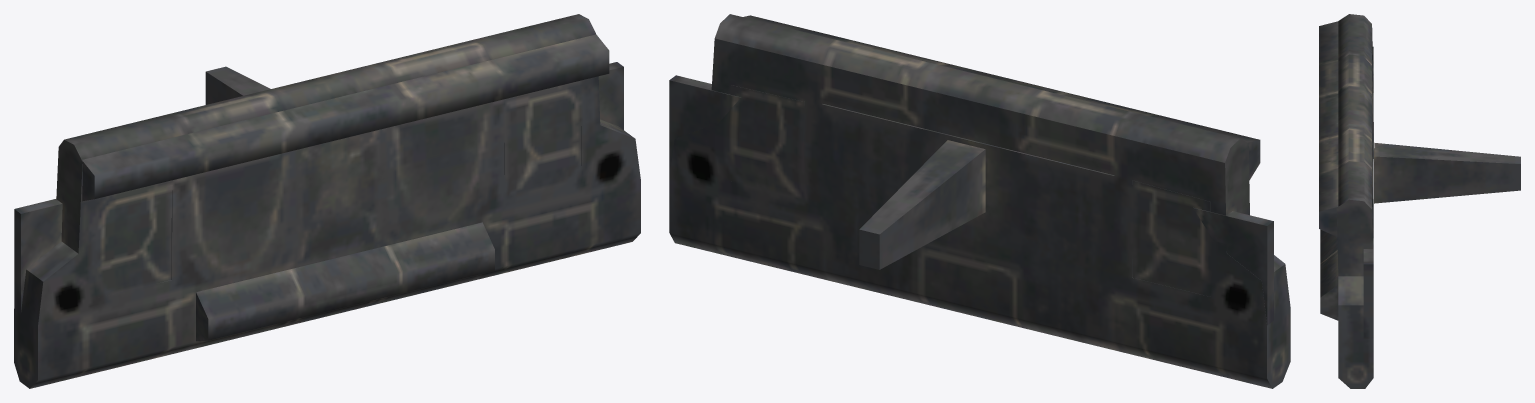
The picture shows the model from 3 angles, left to right: view 1: azimuth 30°, elevation 25°; view 2: azimuth 150°, elevation 25°; view 3: azimuth 270°, elevation 25°; orthographic projection. The views are drawn at different scales.
Visible parts, largest first — view 1: set_0_group_0; view 2: set_0_group_0; view 3: set_0_group_0.
Boxes of the visible parts, box(x1,y1,x2,y2) form: set_0_group_0: box(14, 14, 640, 388); set_0_group_0: box(669, 14, 1290, 388); set_0_group_0: box(1319, 14, 1520, 388).
Size of the model in its own units: 0.3501 by 0.13 by 0.1374.
1 material, 1 textured.
